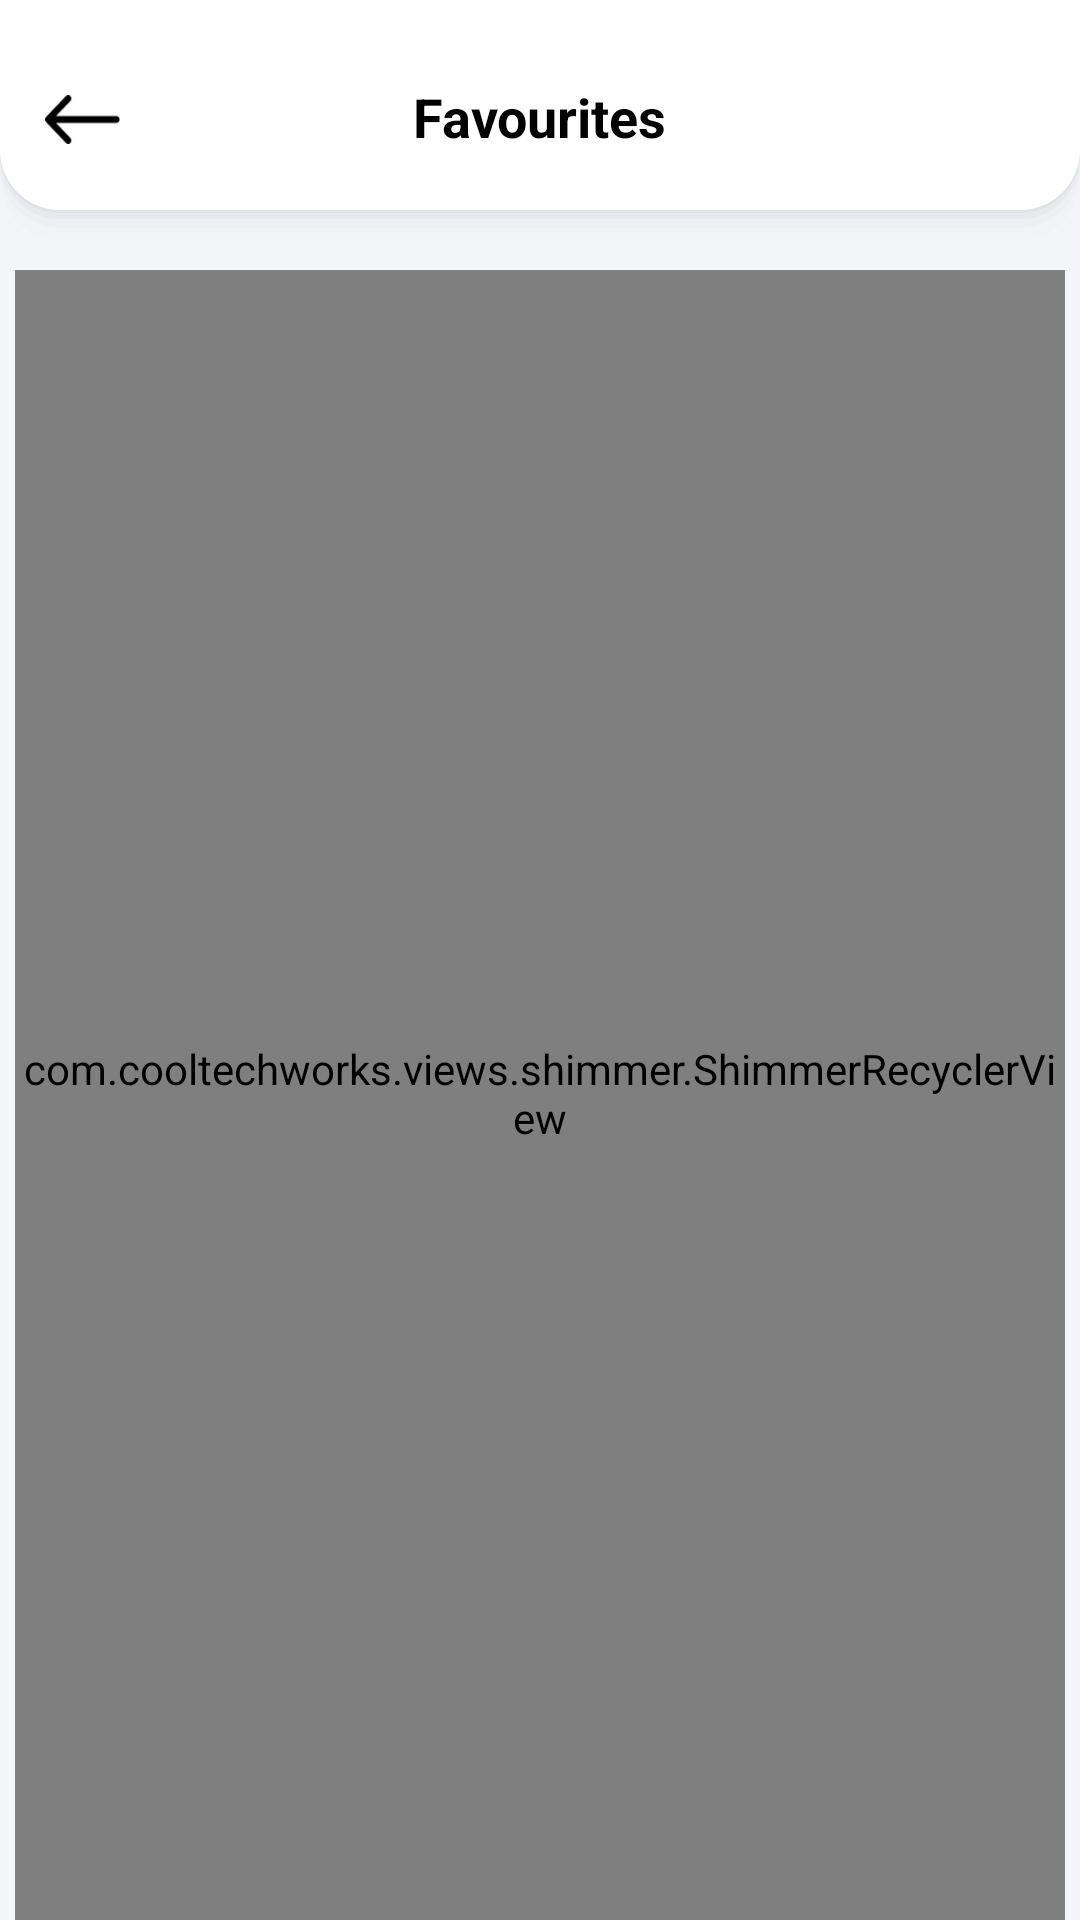

Point at icon controls on the screen. Image size 1080px x 1920px, points as (x,y).
back: (82,119)
